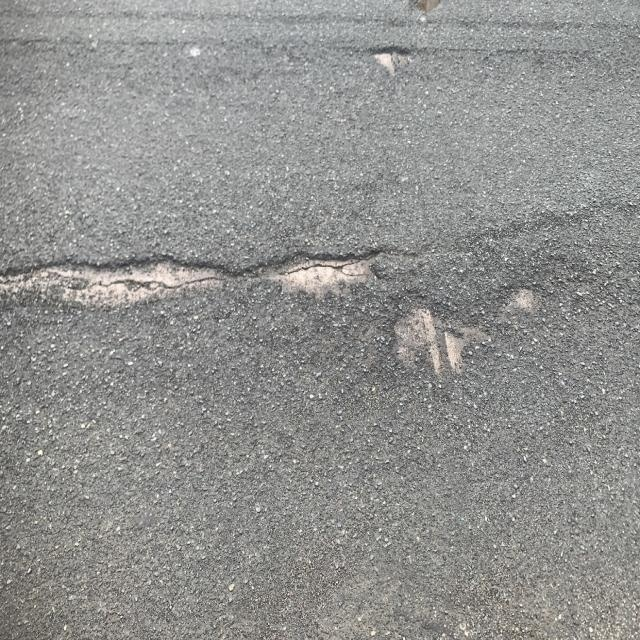pothole: (11, 184, 528, 405)
